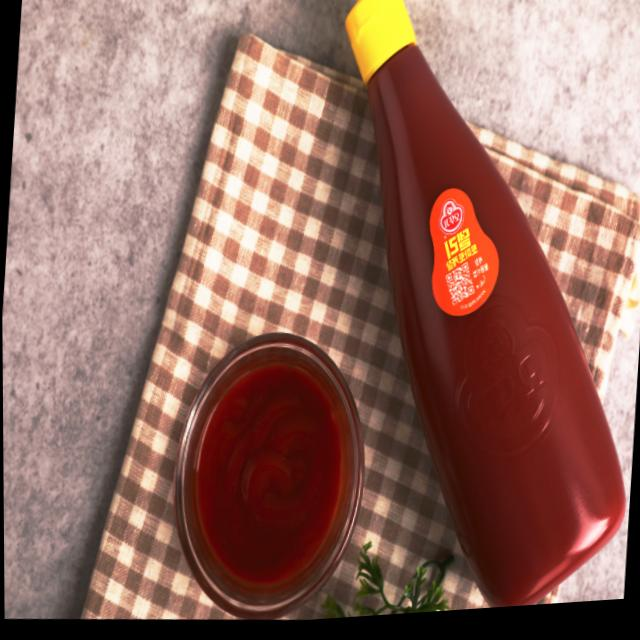ketchup: (299, 0, 640, 620), (183, 353, 354, 610)
